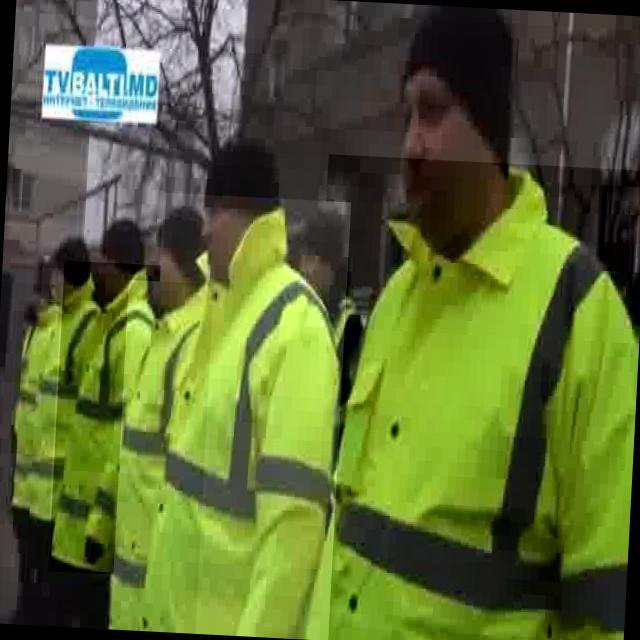Safety Vest: (303, 154, 640, 640), (140, 193, 351, 640), (111, 280, 214, 634), (49, 261, 161, 577), (30, 268, 103, 523), (8, 300, 61, 516)
